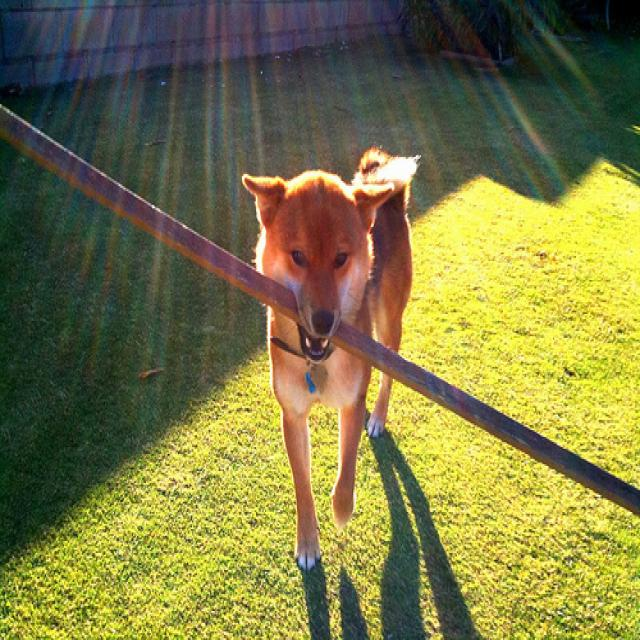dog-shiba_inu: (238, 138, 425, 573)
